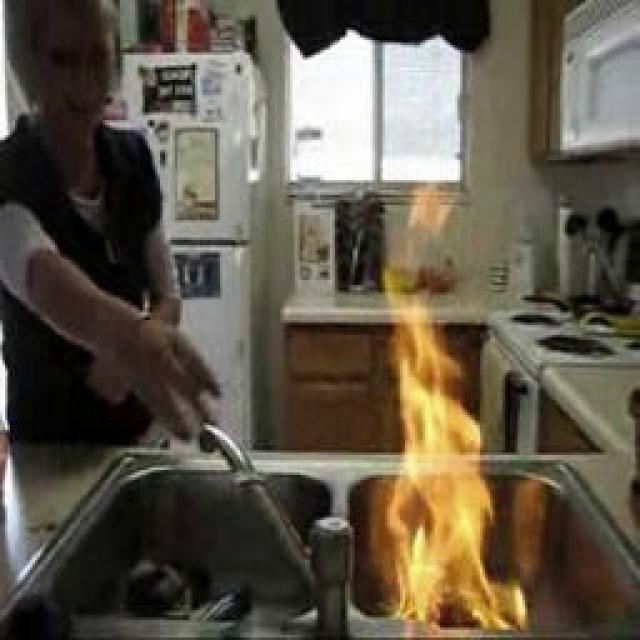Fire: (385, 294, 502, 633)
